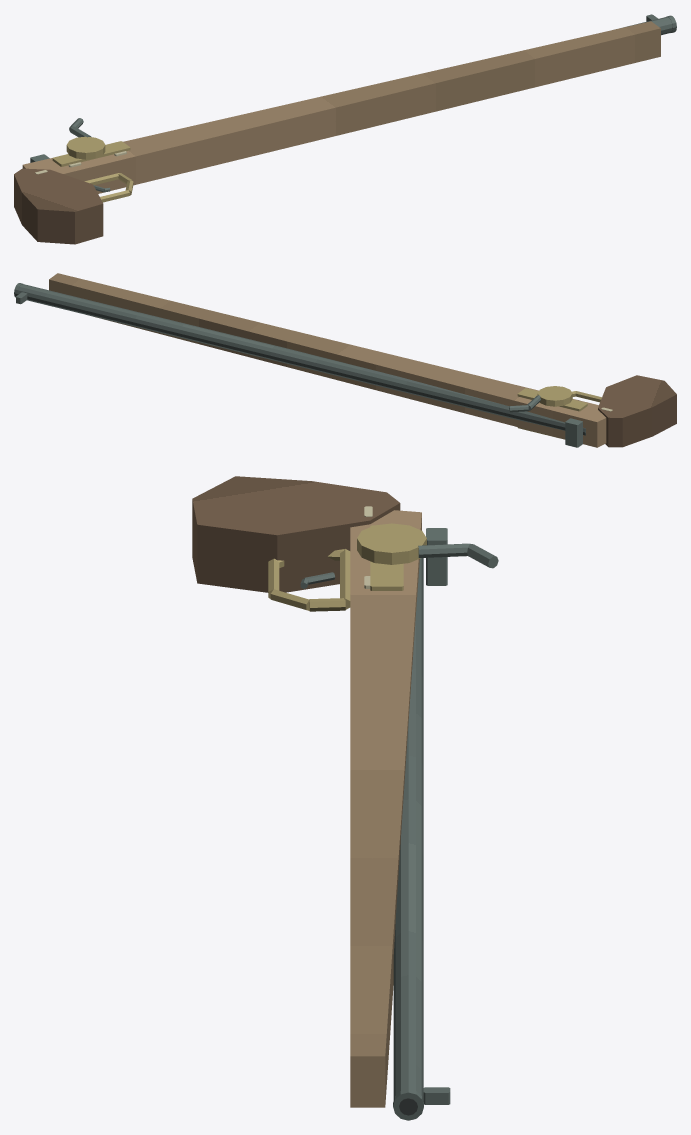
The model's file is weapon-wheellock.glb.
3 views of the same model, one above another, from view 1: azimuth 30°, elevation 25°; view 2: azimuth 150°, elevation 25°; view 3: azimuth 270°, elevation 25° (orthographic). The views are drawn at different scales.
Parts seen in each view (by area): view 1: weapon-wheellock/long-slender-wood-stock, weapon-wheellock/sculpted-curved-wood-butt, weapon-wheellock/circular-wheel-cover, weapon-wheellock/lock-plate-left; view 2: weapon-wheellock/long-slender-wood-stock, weapon-wheellock/long-early-barrel, weapon-wheellock/sculpted-curved-wood-butt, weapon-wheellock/circular-wheel-cover, weapon-wheellock/rear-sight, weapon-wheellock/lock-plate-left; view 3: weapon-wheellock/long-slender-wood-stock, weapon-wheellock/sculpted-curved-wood-butt, weapon-wheellock/long-early-barrel, weapon-wheellock/circular-wheel-cover, weapon-wheellock/rear-sight, weapon-wheellock/lock-plate-left.
Part boxes in pixels (x1=…): weapon-wheellock/long-slender-wood-stock: x1=22, y1=21, x2=660, y2=193; weapon-wheellock/sculpted-curved-wood-butt: x1=14, y1=168, x2=103, y2=244; weapon-wheellock/circular-wheel-cover: x1=66, y1=136, x2=105, y2=159; weapon-wheellock/lock-plate-left: x1=52, y1=141, x2=130, y2=166; weapon-wheellock/long-slender-wood-stock: x1=49, y1=273, x2=606, y2=447; weapon-wheellock/long-early-barrel: x1=17, y1=284, x2=585, y2=435; weapon-wheellock/sculpted-curved-wood-butt: x1=598, y1=375, x2=676, y2=447; weapon-wheellock/circular-wheel-cover: x1=537, y1=386, x2=572, y2=406; weapon-wheellock/rear-sight: x1=565, y1=418, x2=582, y2=447; weapon-wheellock/lock-plate-left: x1=517, y1=388, x2=587, y2=411; weapon-wheellock/long-slender-wood-stock: x1=350, y1=510, x2=421, y2=1107; weapon-wheellock/sculpted-curved-wood-butt: x1=192, y1=476, x2=400, y2=592; weapon-wheellock/long-early-barrel: x1=393, y1=558, x2=423, y2=1100; weapon-wheellock/circular-wheel-cover: x1=357, y1=523, x2=426, y2=564; weapon-wheellock/rear-sight: x1=426, y1=528, x2=447, y2=585; weapon-wheellock/lock-plate-left: x1=370, y1=525, x2=403, y2=590.
Bounding box in the file's own units: 0.8555 × 0.0555 × 0.1842.
6 materials, 6 textured.
